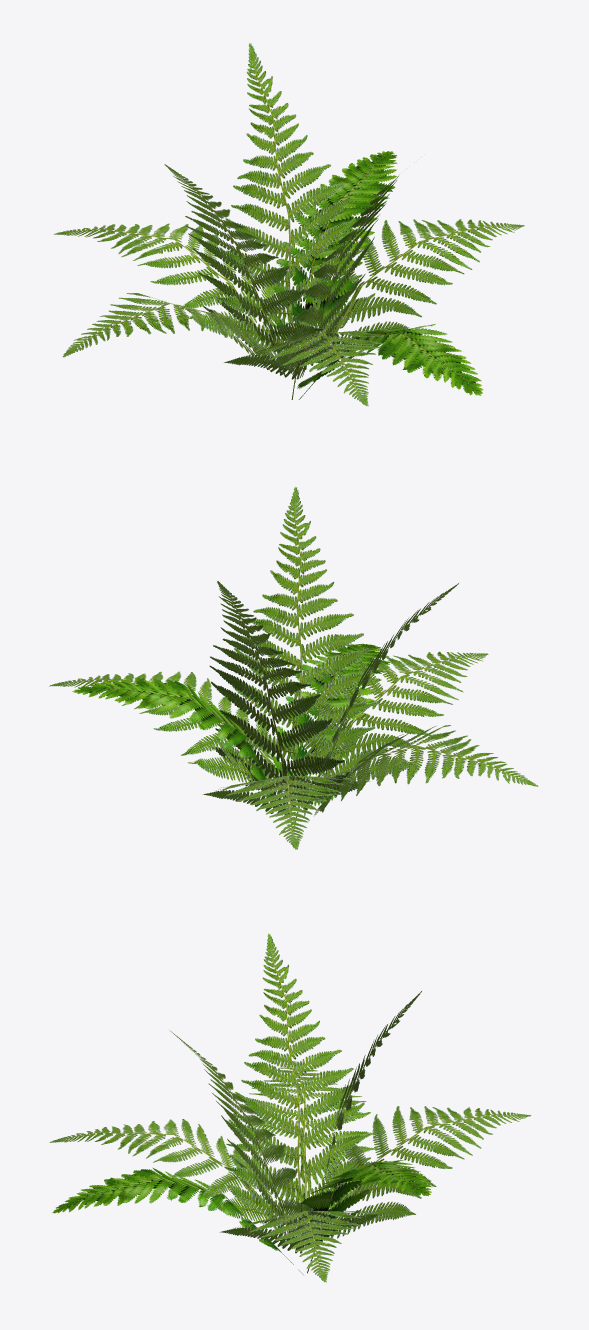
Rendered from prop_fern1.fbx.
3 renders of one model, top to bottom at view 1: azimuth 30°, elevation 25°; view 2: azimuth 150°, elevation 25°; view 3: azimuth 270°, elevation 25°, orthographic. The views are drawn at different scales.
Parts seen in each view (by area): view 1: pPlane25, pPlane15, pPlane26, pPlane8, pPlane16, pPlane4, pPlane12, pPlane11, pPlane7; view 2: pPlane11, pPlane25, pPlane12, pPlane7, pPlane8, pPlane16, pPlane15, pPlane4, pPlane26; view 3: pPlane26, pPlane16, pPlane12, pPlane7, pPlane11, pPlane4, pPlane15, pPlane8, pPlane25.
Part boxes in pixels (<box>): pPlane25: <box>213,43,375,365</box>; pPlane15: <box>321,219,524,356</box>; pPlane26: <box>164,164,327,375</box>; pPlane8: <box>271,151,397,399</box>; pPlane16: <box>53,223,277,360</box>; pPlane4: <box>297,323,483,399</box>; pPlane12: <box>224,329,391,406</box>; pPlane11: <box>275,176,398,378</box>; pPlane7: <box>62,293,274,372</box>; pPlane11: <box>214,486,387,809</box>; pPlane25: <box>209,581,348,809</box>; pPlane12: <box>297,651,488,803</box>; pPlane7: <box>314,725,538,815</box>; pPlane8: <box>72,677,287,825</box>; pPlane16: <box>202,775,370,849</box>; pPlane15: <box>49,671,275,784</box>; pPlane4: <box>272,643,390,832</box>; pPlane26: <box>303,583,458,818</box>; pPlane26: <box>224,933,379,1228</box>; pPlane16: <box>327,1106,531,1238</box>; pPlane12: <box>49,1119,279,1234</box>; pPlane7: <box>226,1061,377,1209</box>; pPlane11: <box>169,1030,318,1248</box>; pPlane4: <box>52,1167,303,1274</box>; pPlane15: <box>219,1211,382,1282</box>; pPlane8: <box>291,1160,431,1273</box>; pPlane25: <box>312,991,421,1238</box>.
Bounding box in the file's own units: 2.24 × 1.38 × 2.25.
